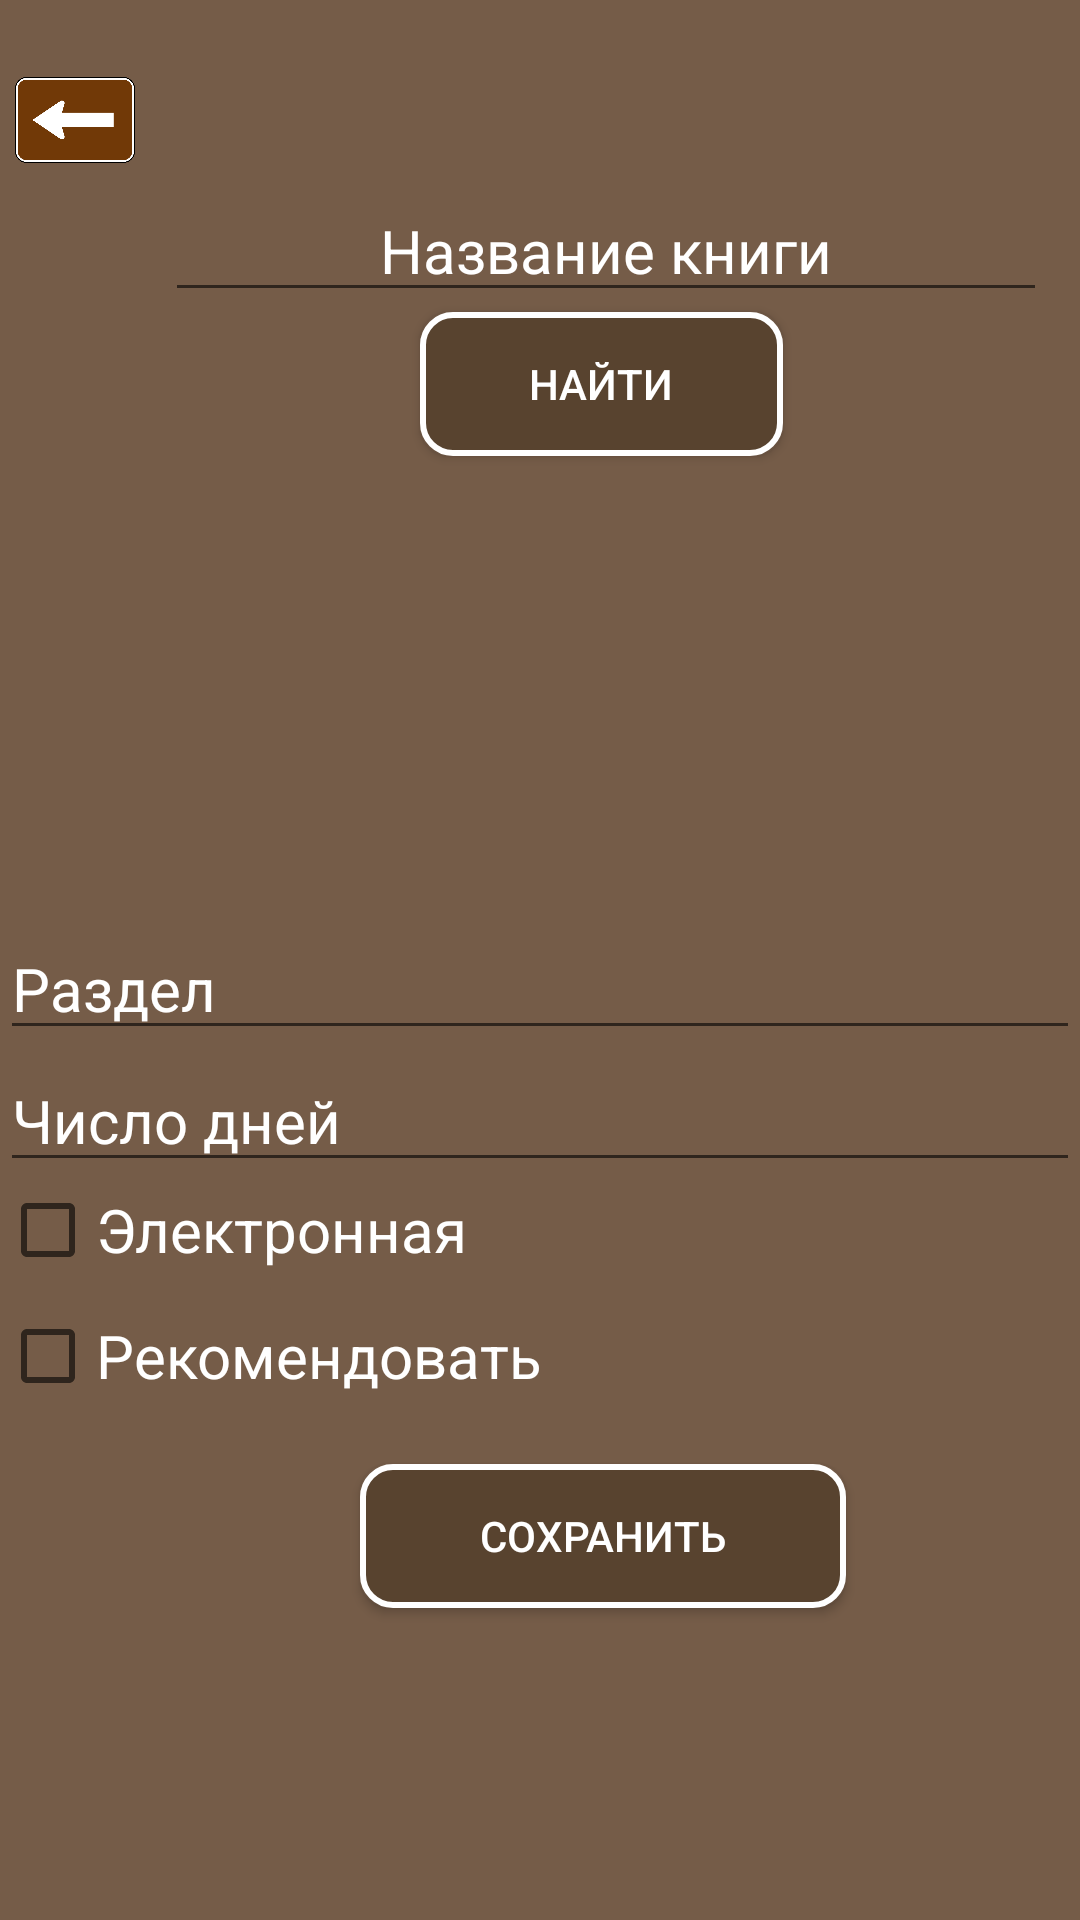

Screen size 1080*1920. Icon name, then its box in pixels as bbox(x1, y1, x2, y2):
bac: bbox(15, 77, 135, 163)
